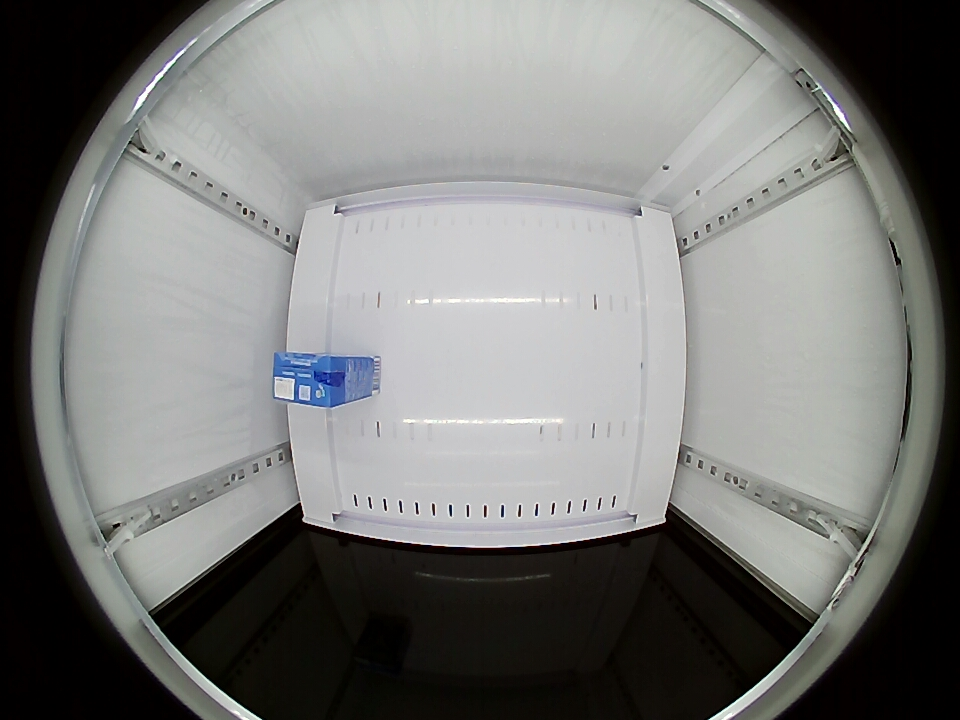weitanai: (272, 352, 348, 408)
